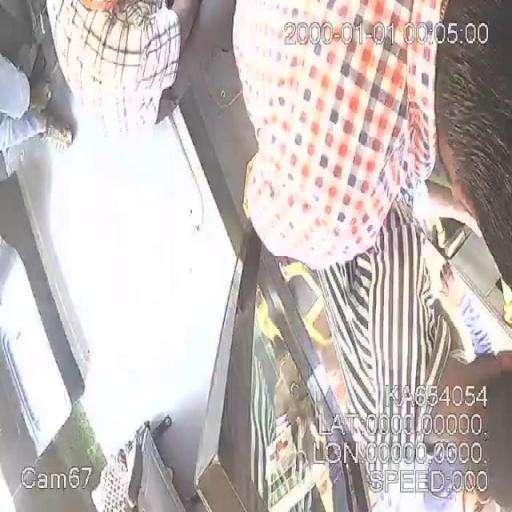persona: (233, 0, 512, 281), (350, 202, 512, 509), (33, 0, 222, 146)
